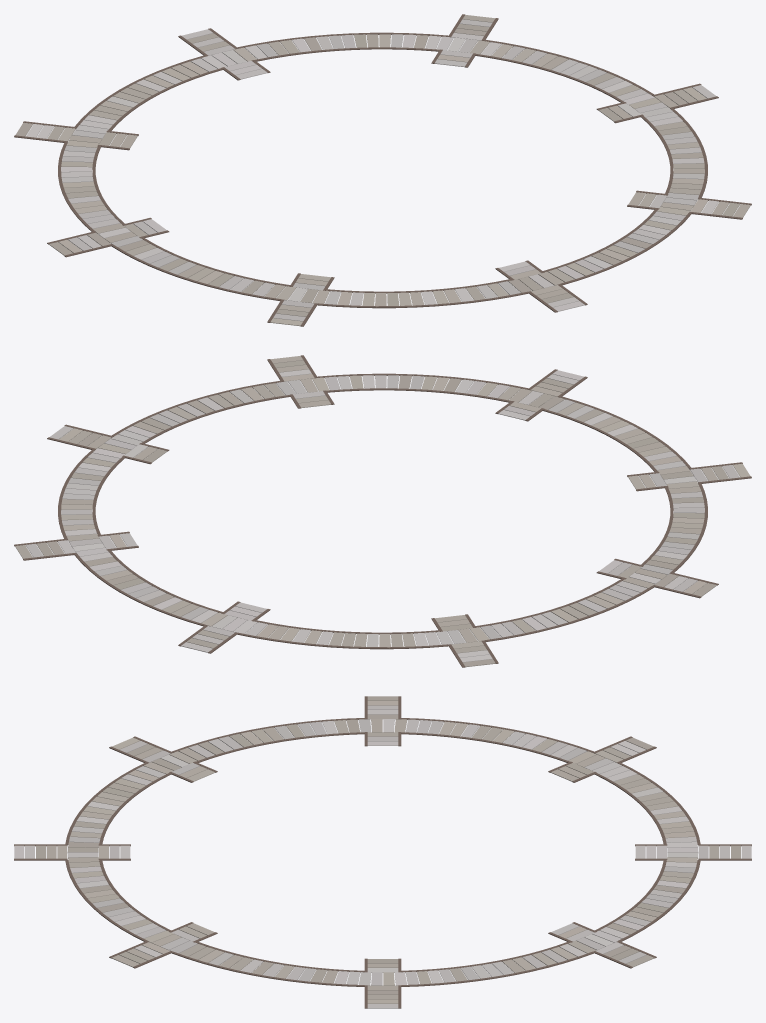
Rendered from ranch_floor_paths.fbx.
3 views of the same model, one above another, from view 1: azimuth 30°, elevation 25°; view 2: azimuth 150°, elevation 25°; view 3: azimuth 270°, elevation 25° (orthographic). The views are drawn at different scales.
Visible parts, largest first — view 1: ranch_floor_paths; view 2: ranch_floor_paths; view 3: ranch_floor_paths.
Boxes of the visible parts, x1,y1,x2,y2 form: ranch_floor_paths: (14, 14, 751, 326); ranch_floor_paths: (14, 355, 751, 667); ranch_floor_paths: (14, 696, 751, 1008).
Bounding box in the file's own units: 192 × 0.21 × 192.
